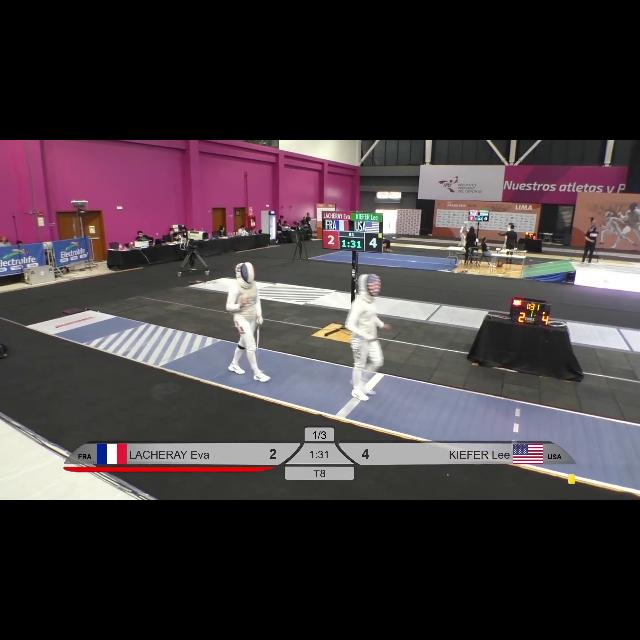blade: (253, 319, 263, 377)
